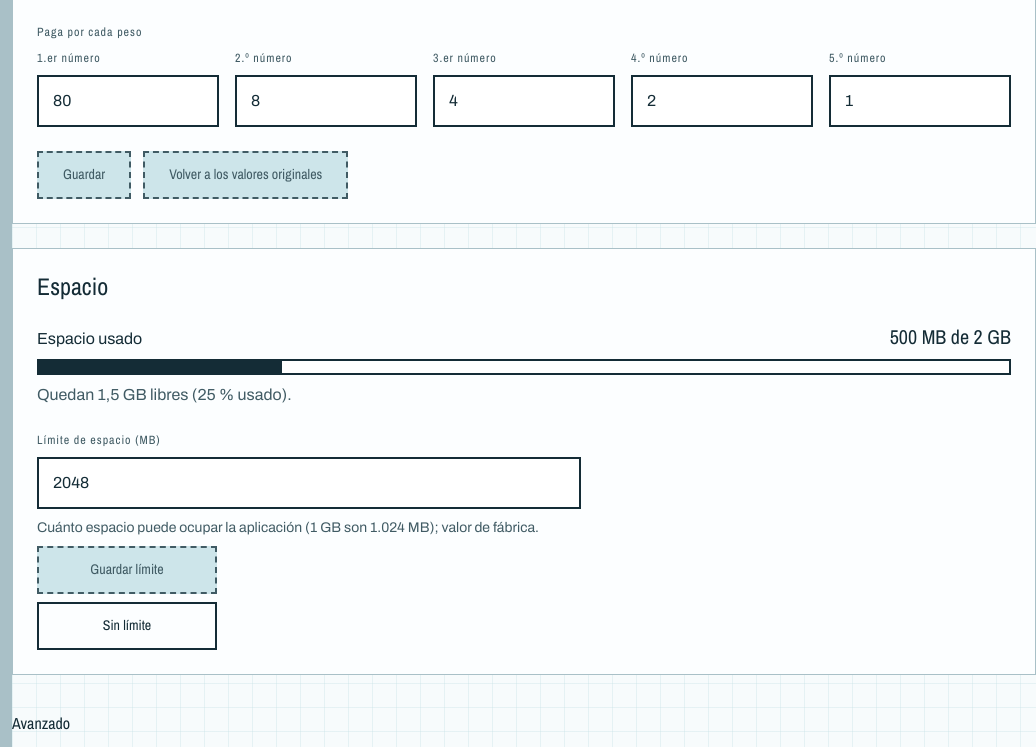
Test case: settings page › offers «Sin límite»: sends the explicit marker and then shows no meter or finite cap
(page scrolled)
Expected: the progress indicator named "Espacio usado" is shown, [37, 359, 1011, 375]
Click the button "Sin límite": (127, 626) [37, 602, 217, 650]
(page scrolled)
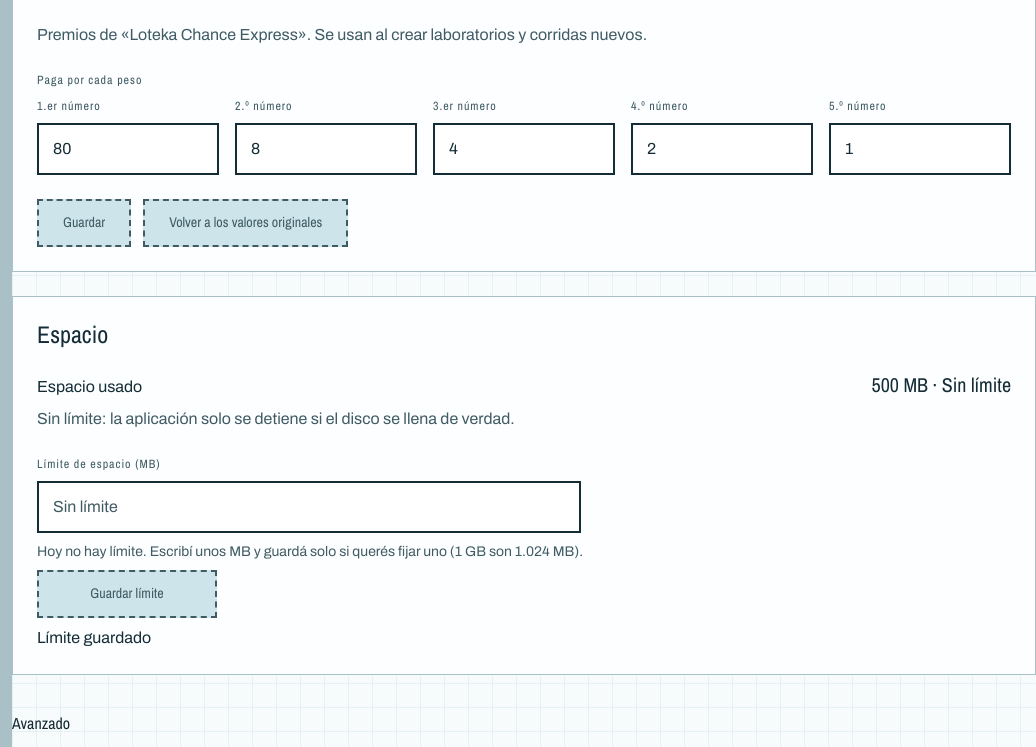
Now the text "Sin límite: la aplicación solo se detiene si el disco se llena" is shown, box [37, 410, 515, 427]
Now the field labelled "Límite de espacio (MB)" is empty, box [37, 481, 581, 533]
